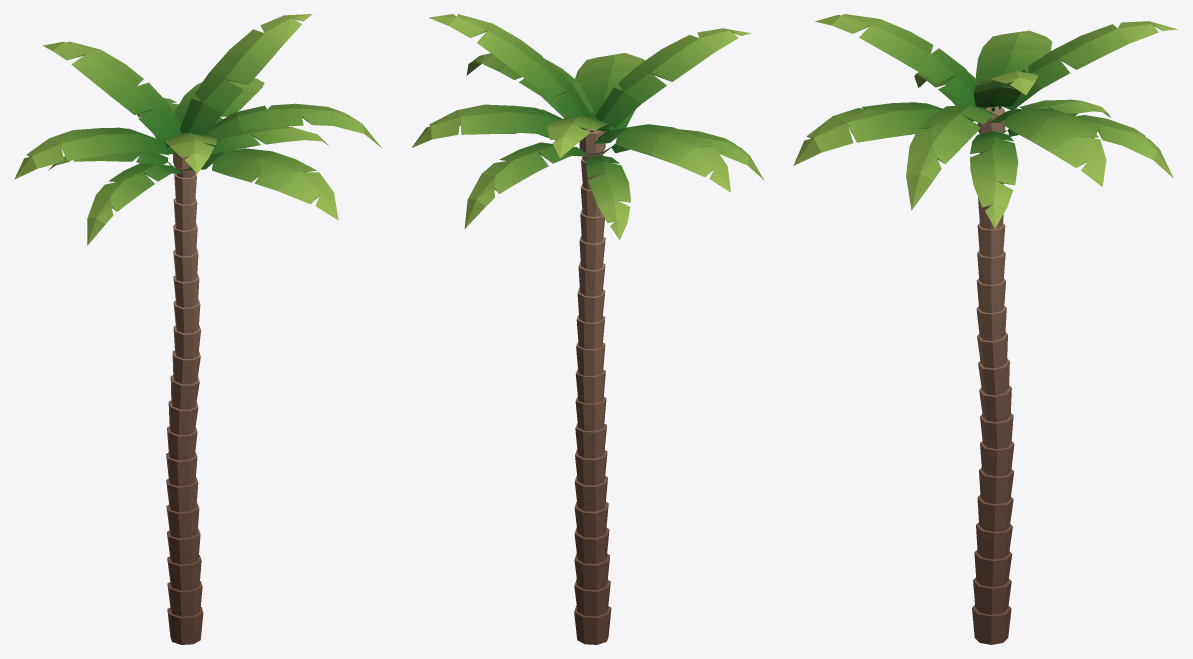
Rendered from PalmTree_02.fbx.
3 views of the same model, side by side, from view 1: azimuth 30°, elevation 25°; view 2: azimuth 150°, elevation 25°; view 3: azimuth 270°, elevation 25° (orthographic). The views are drawn at different scales.
Visible parts, largest first — view 1: PalmTree_02_LOD0; view 2: PalmTree_02_LOD0; view 3: PalmTree_02_LOD0.
Boxes of the visible parts, <box> form: PalmTree_02_LOD0: <box>14,14,381,644</box>; PalmTree_02_LOD0: <box>411,14,764,644</box>; PalmTree_02_LOD0: <box>793,14,1177,644</box>.
Size of what is drawn, in the model's own units: 2.99 by 5.33 by 2.99.
